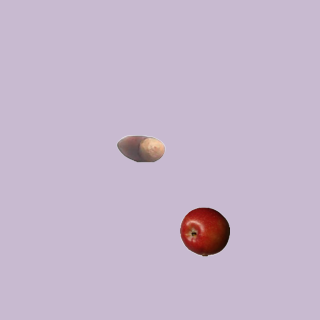Apple Braeburn: (179, 206, 229, 256)
Hazelnut: (115, 123, 165, 173)
